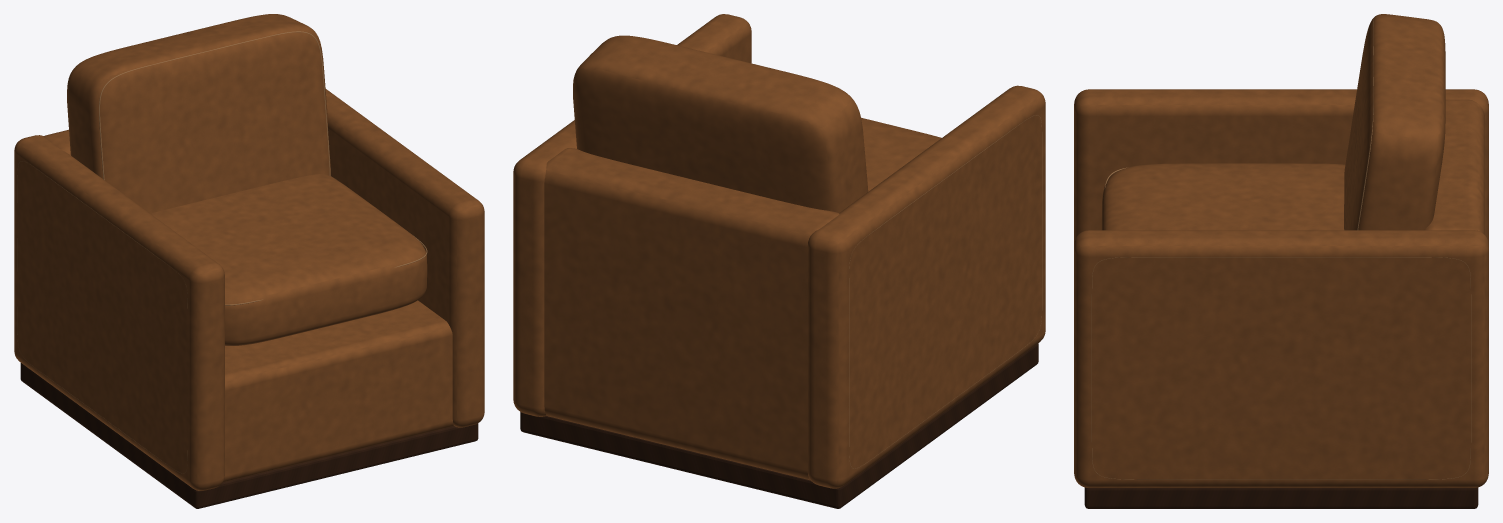
The model's file is chita-swivel-accent-chair.glb.
3 views of the same model, side by side, from view 1: azimuth 30°, elevation 25°; view 2: azimuth 150°, elevation 25°; view 3: azimuth 270°, elevation 25° (orthographic). The views are drawn at different scales.
Parts seen in each view (by area): view 1: Left full arm, Loose tall back cushion, Upholstered lower seat base, Loose deep seat cushion, Right full arm, Walnut square plinth, Back cushion front piping; view 2: Fixed rear upholstered shell, Left full arm, Loose tall back cushion, Right full arm, Walnut square plinth, Loose deep seat cushion, Arm side inset seam -1; view 3: Right full arm, Left full arm, Loose tall back cushion, Loose deep seat cushion, Walnut square plinth, Fixed rear upholstered shell, Arm side inset seam 1.
Part boxes in pixels (left/top/right/bottom): Left full arm: left=14, top=135, right=224, bottom=490; Loose tall back cushion: left=67, top=14, right=330, bottom=213; Upholstered lower seat base: left=223, top=300, right=453, bottom=482; Loose deep seat cushion: left=150, top=174, right=427, bottom=345; Right full arm: left=325, top=89, right=484, bottom=427; Walnut square plinth: left=20, top=363, right=478, bottom=508; Back cushion front piping: left=99, top=31, right=330, bottom=179; Fixed rear upholstered shell: left=544, top=148, right=839, bottom=480; Left full arm: left=807, top=85, right=1045, bottom=488; Loose tall back cushion: left=573, top=35, right=868, bottom=212; Right full arm: left=513, top=14, right=751, bottom=416; Walnut square plinth: left=520, top=343, right=1038, bottom=508; Loose deep seat cushion: left=861, top=117, right=941, bottom=191; Arm side inset seam -1: left=849, top=115, right=1042, bottom=468; Right full arm: left=1074, top=230, right=1488, bottom=487; Left full arm: left=1074, top=89, right=1488, bottom=244; Loose tall back cushion: left=1344, top=14, right=1445, bottom=230; Loose deep seat cushion: left=1101, top=163, right=1345, bottom=230; Walnut square plinth: left=1084, top=487, right=1478, bottom=508; Fixed rear upholstered shell: left=1424, top=99, right=1484, bottom=234; Arm side inset seam 1: left=1091, top=257, right=1471, bottom=479.
Size of the model in its own units: 0.762 by 0.8382 by 0.8382.
4 materials, 2 textured.
